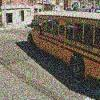buses: (26, 10, 100, 84)
